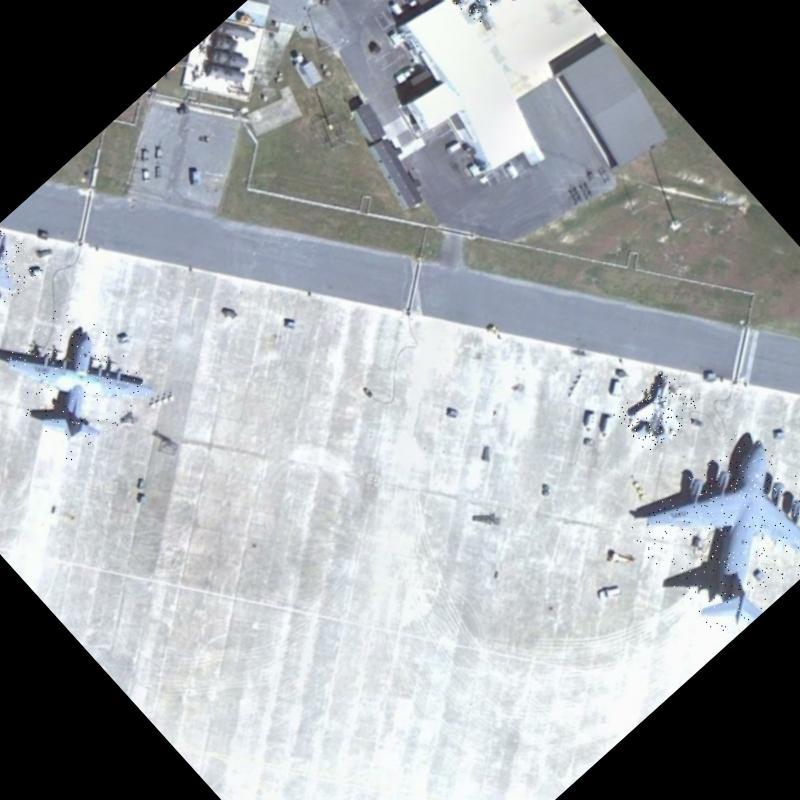A13: (613, 366, 704, 457), (0, 225, 45, 319), (422, 0, 512, 26)
A2: (0, 294, 157, 465)
A3: (625, 420, 800, 643)
